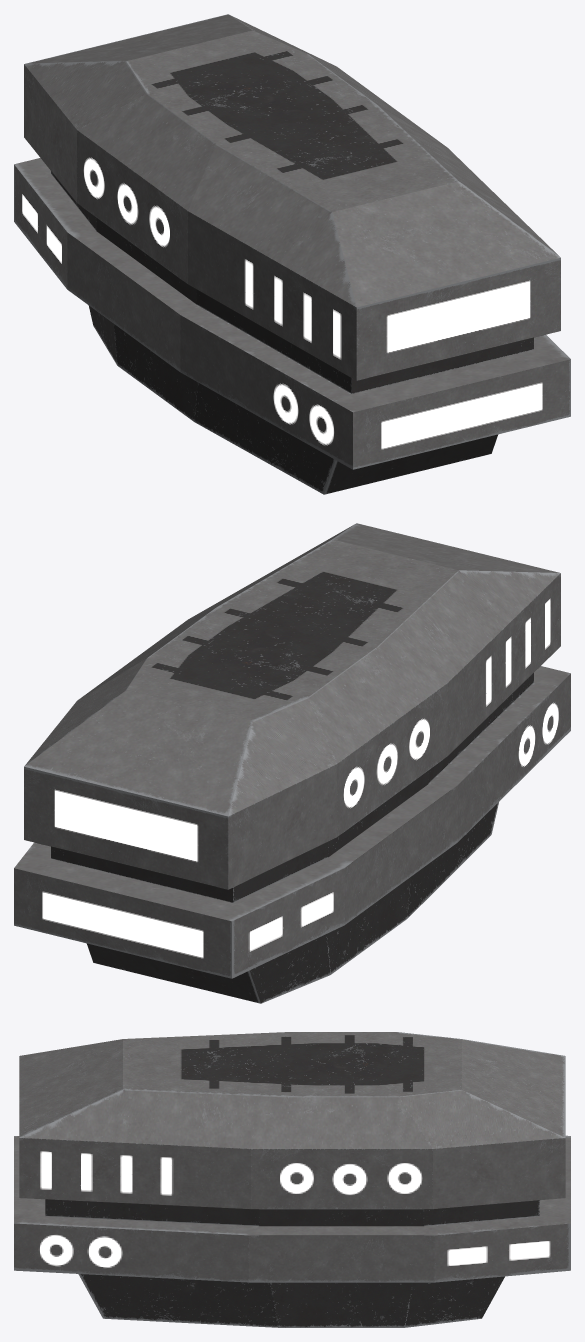
The model's file is bridge_m_1.fbx.
3 views of the same model, one above another, from view 1: azimuth 30°, elevation 25°; view 2: azimuth 150°, elevation 25°; view 3: azimuth 270°, elevation 25° (orthographic). The views are drawn at different scales.
Parts seen in each view (by area): view 1: bridge_m_1; view 2: bridge_m_1; view 3: bridge_m_1.
Boxes of the visible parts, box(x1,y1,x2,y2) form: bridge_m_1: box(14, 14, 570, 494); bridge_m_1: box(14, 523, 570, 1003); bridge_m_1: box(14, 1032, 570, 1327).
Bounding box in the file's own units: 8.2 × 7.59 × 17.37.
